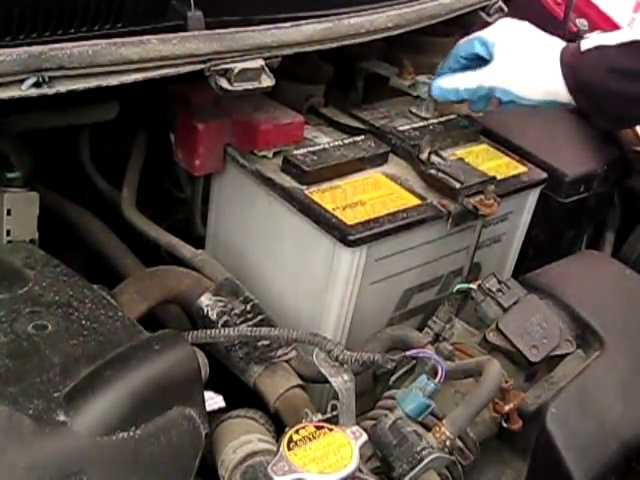battery: (187, 91, 551, 230)
neg_touched: (378, 45, 510, 137)
pos_connected: (189, 95, 314, 171)
